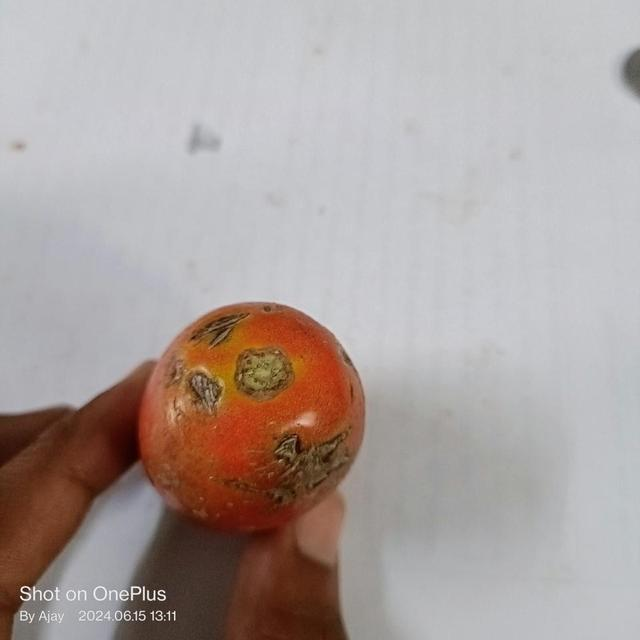Bacterial Spot Fruit: (25, 27, 197, 311)
